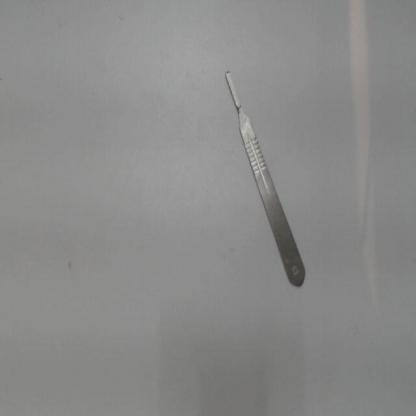No.4 BP Handle: (222, 63, 311, 295)
